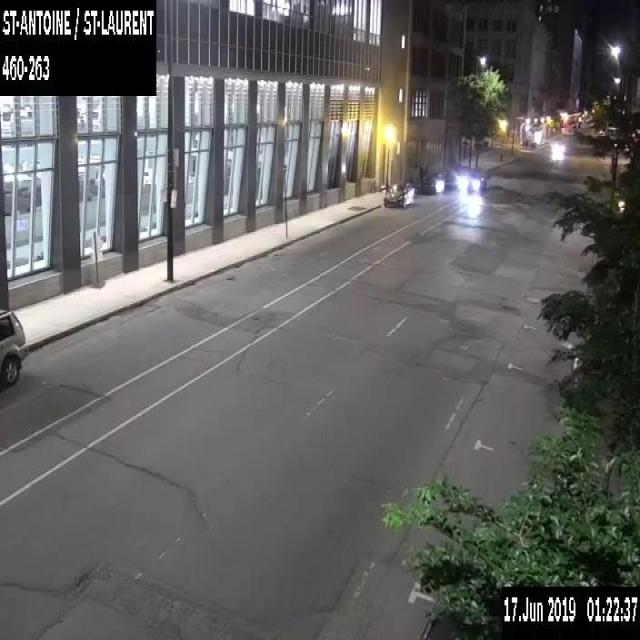construction: (86, 229, 102, 259)
vehicle: (0, 304, 29, 392), (383, 180, 414, 207), (417, 171, 444, 192), (460, 171, 485, 191), (442, 168, 458, 188), (551, 140, 564, 152)
